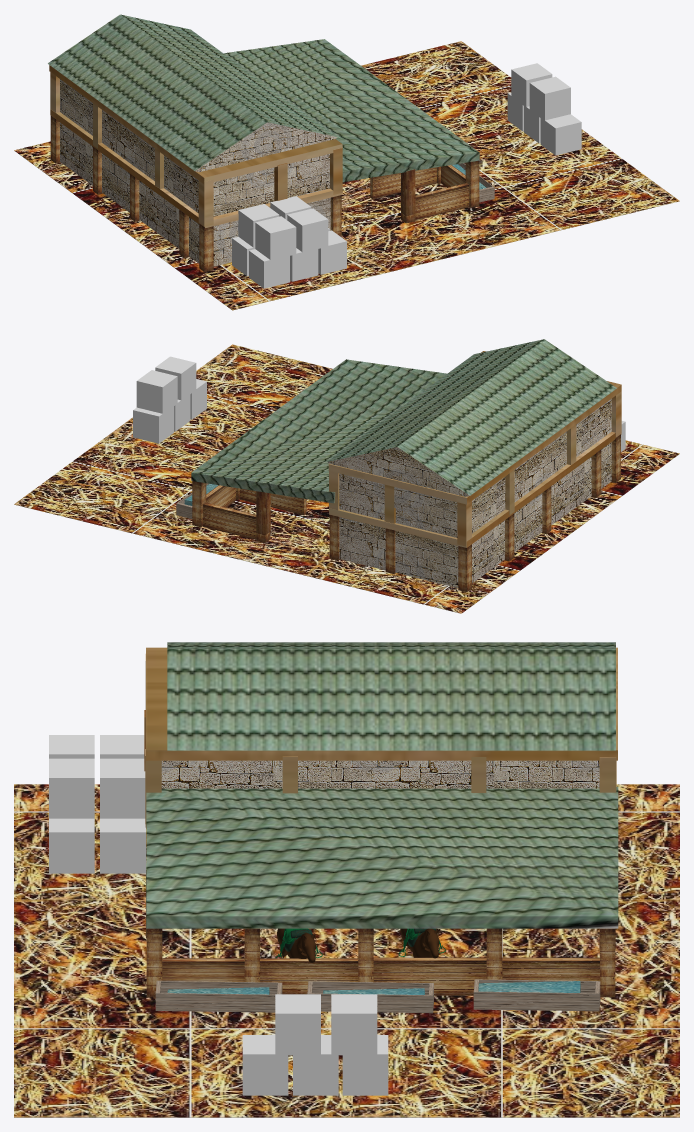
The model's file is establo_elf.fbx.
3 renders of one model, top to bottom at view 1: azimuth 30°, elevation 25°; view 2: azimuth 150°, elevation 25°; view 3: azimuth 270°, elevation 25°, orthographic. The views are drawn at different scales.
Parts seen in each view (by area): view 1: Plane, tejado, techo_cab, cubo_sup, cubo_sup_p, paja1, cubo_pres, paja2, columnas, sito_caballos, paja2.001; view 2: Plane, tejado, techo_cab, cubo_pres, cubo_sup, cubo_sup_p, paja2, columnas, sito_caballos; view 3: Plane, techo_cab, tejado, paja2, cubo_sup_p, sito_caballos, cubo_sup, paja1, paja2.001, columnas, Cube, Cube.002 (+2 smaller).
Boxes of the visible parts, <box> form: Plane: <box>14,41,679,310</box>; tejado: <box>48,14,337,172</box>; techo_cab: <box>224,39,479,216</box>; cubo_sup: <box>49,65,342,228</box>; cubo_sup_p: <box>60,79,329,216</box>; paja1: <box>249,208,346,288</box>; cubo_pres: <box>60,122,330,266</box>; paja2: <box>507,63,581,155</box>; columnas: <box>50,116,479,271</box>; sito_caballos: <box>370,165,469,220</box>; paja2.001: <box>232,196,329,276</box>; Plane: <box>14,344,679,613</box>; tejado: <box>327,339,616,510</box>; techo_cab: <box>191,359,446,534</box>; cubo_pres: <box>339,442,611,587</box>; cubo_sup: <box>328,351,621,547</box>; cubo_sup_p: <box>339,399,611,537</box>; paja2: <box>133,356,206,443</box>; columnas: <box>192,434,620,591</box>; sito_caballos: <box>202,485,306,539</box>; Plane: <box>14,784,679,1117</box>; techo_cab: <box>146,787,618,938</box>; tejado: <box>167,642,615,750</box>; paja2: <box>242,994,388,1095</box>; cubo_sup_p: <box>161,760,599,788</box>; sito_caballos: <box>162,957,599,995</box>; cubo_sup: <box>144,647,617,827</box>; paja1: <box>49,735,94,873</box>; paja2.001: <box>100,735,145,873</box>; columnas: <box>146,928,615,997</box>; Cube: <box>155,980,282,1012</box>; Cube.002: <box>473,979,600,1011</box>.
Bounding box in the file's own units: 895 × 250 × 757.
